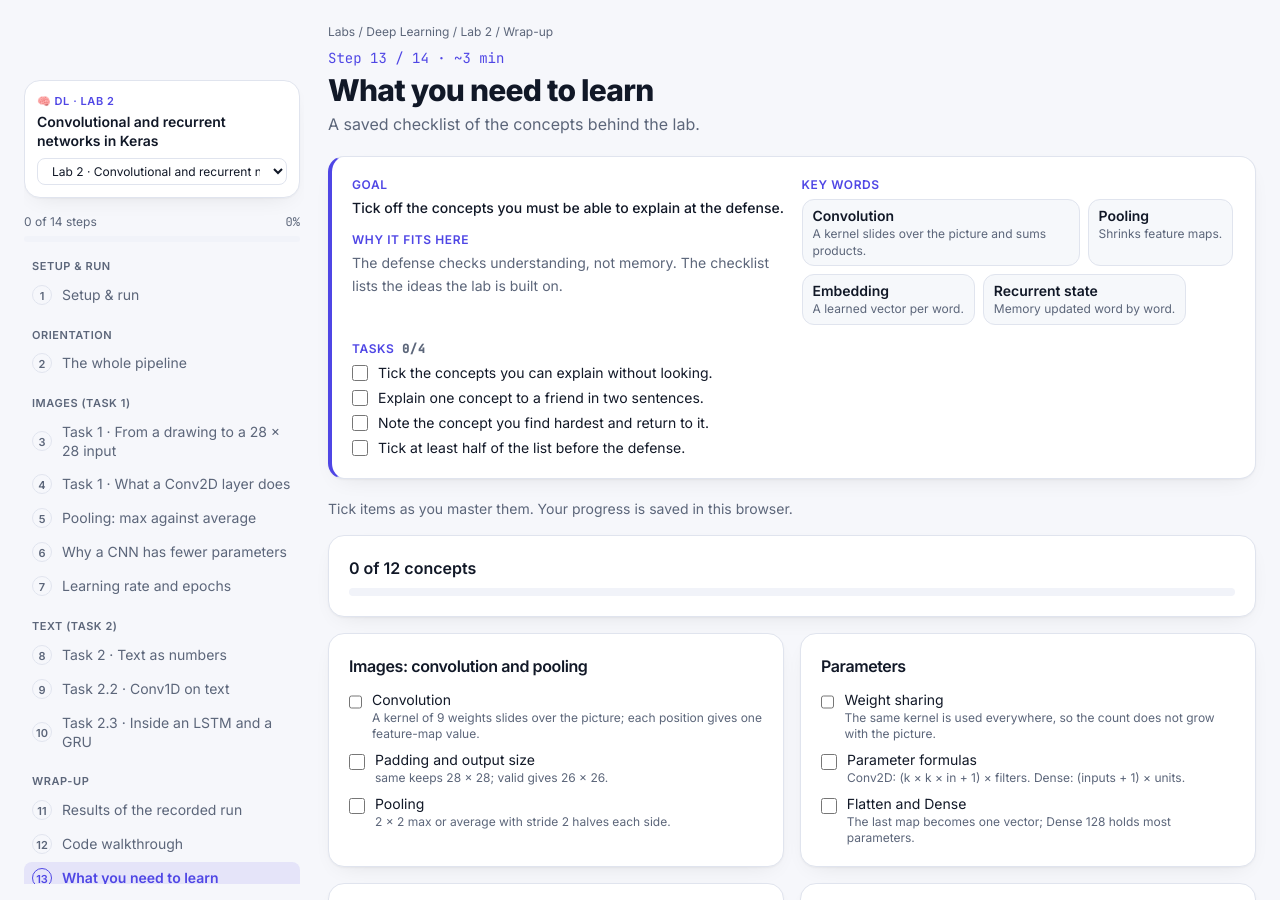
Test: Lab 2 widgets compute and respond › the checklist counts the concepts the learner ticks
The image size is (1280, 900).
Expected: the heading "What you need to learn" is shown, [328,72,654,108]
Click the checkbox labelled "Convolution" at (356, 702), box [349,694,362,710]
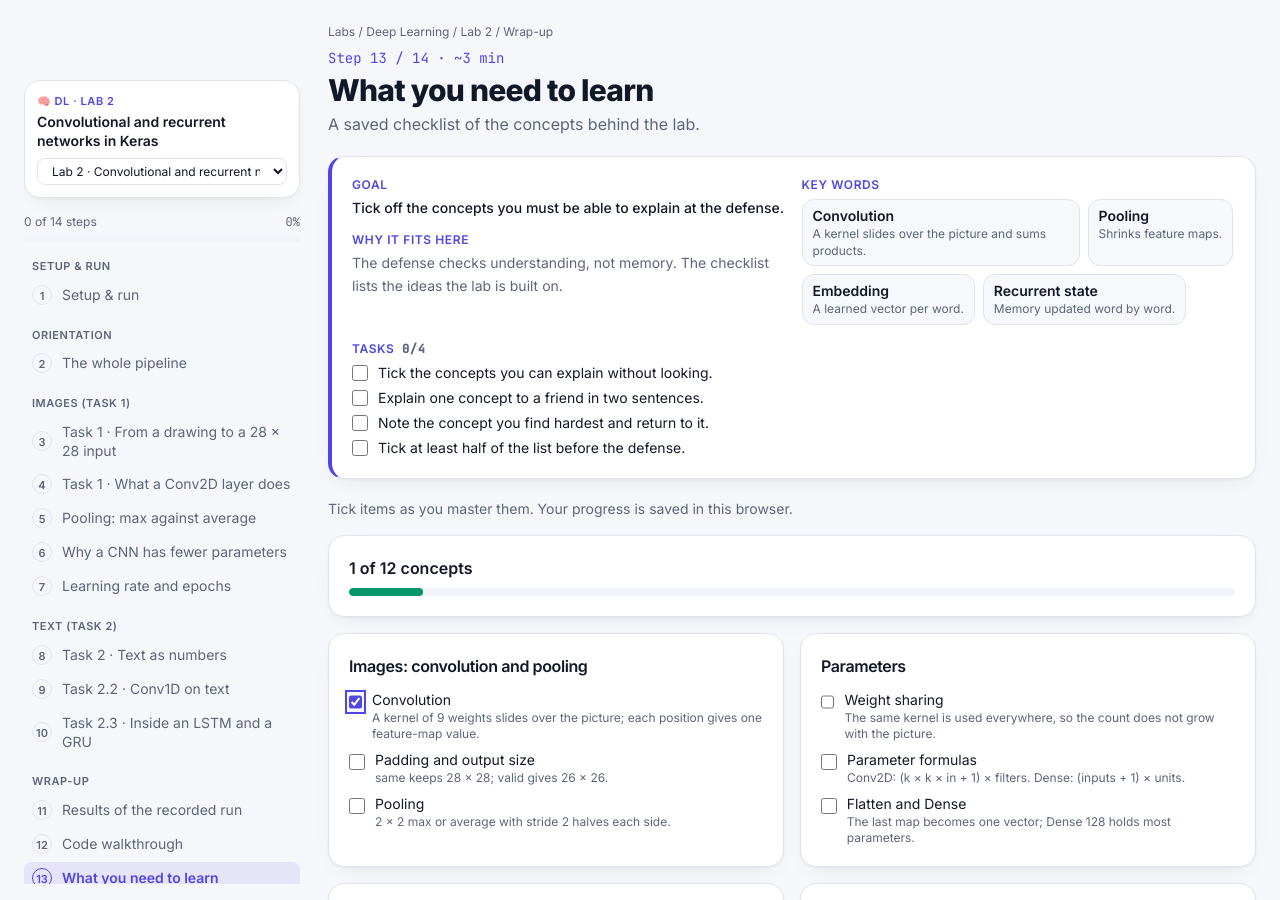
Expected: the text "1 of 12 concepts" is shown, [349,558,472,578]
